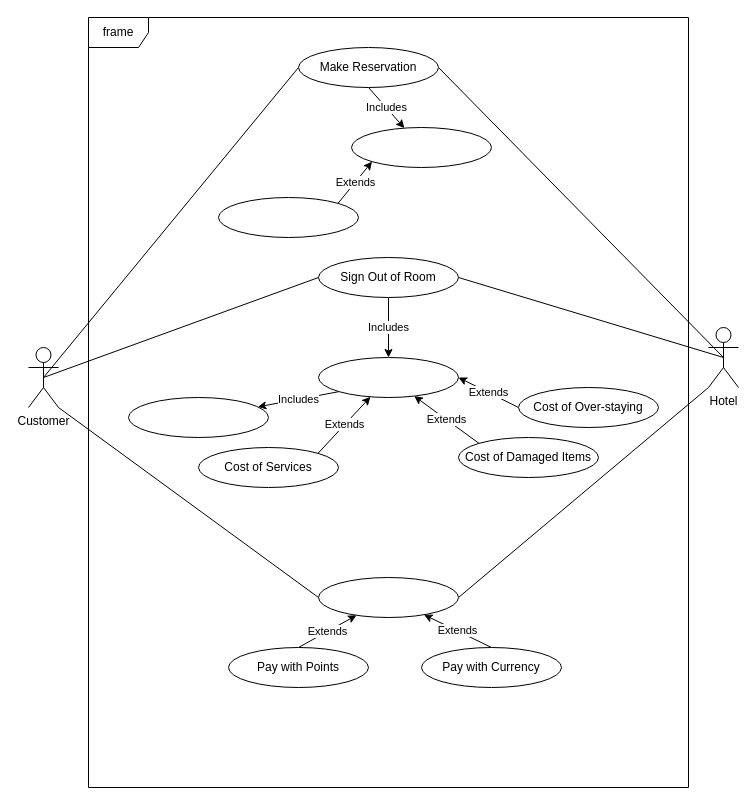
Image size: 756x805. Some labels were removed from this diagram. The box of each missing label's shape, as (x1, y1, x2, y2) in pixels:
Assign Room: (350, 126, 492, 168)
Bill Customer: (318, 576, 458, 618)
Calculate Cost of Stay: (318, 356, 458, 398)
Cost of Duration: (128, 396, 268, 438)
Room Services: (218, 196, 358, 238)
